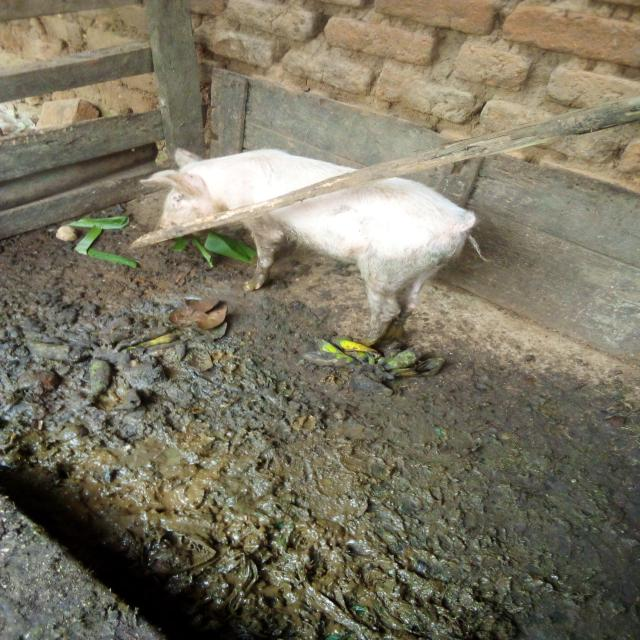pig: (110, 120, 540, 387)
